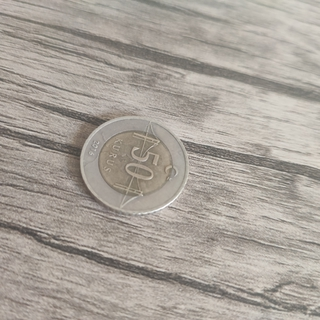50KURUS: (77, 113, 189, 217)
